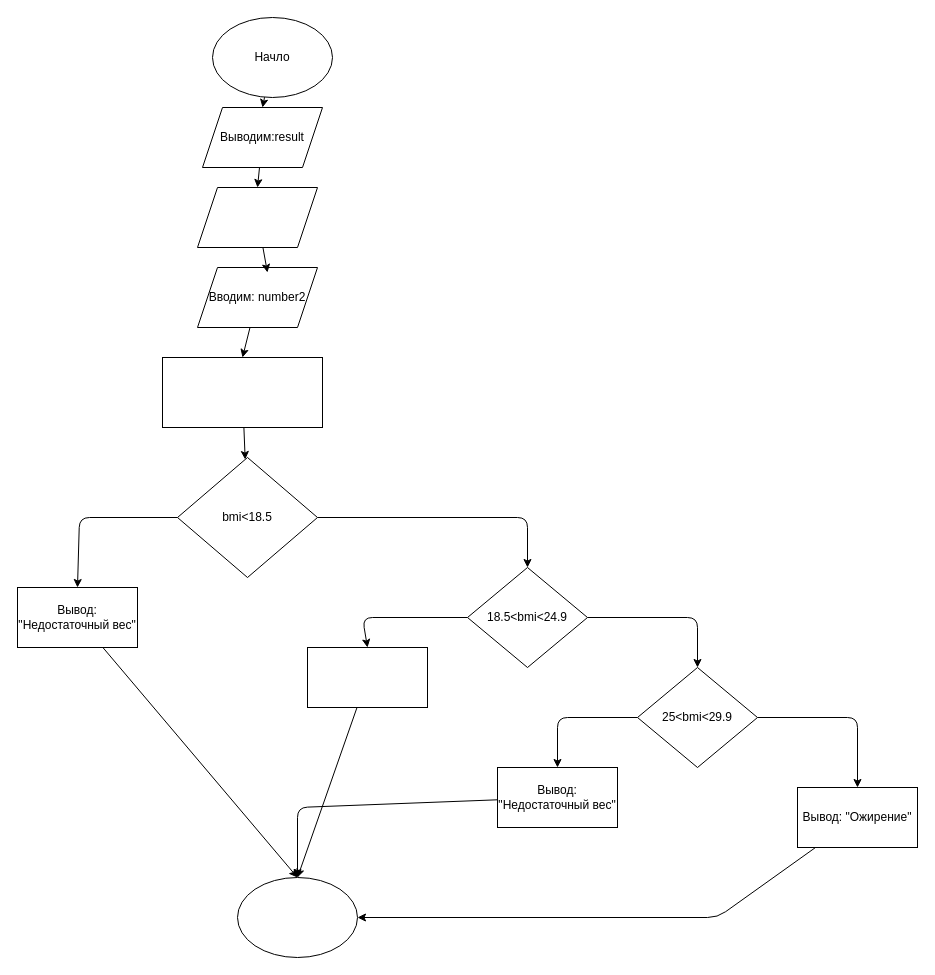
The diagram is 935 pixels wide and 975 high, and some of its shapes have lost their labels. The box of each missing label's shape, as (x1, y1, x2, y2) in pixels:
bmi=number1/( number1 )^2: (162, 356, 322, 428)
Вводим: number1: (196, 186, 318, 248)
Вывод: "Нормальный вес ": (306, 646, 428, 708)
Конец: (236, 876, 358, 958)
